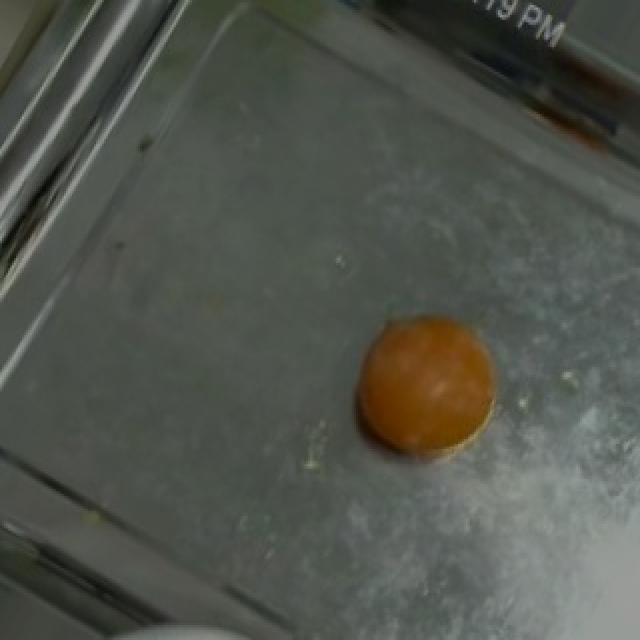Fruit: (340, 292, 522, 478)
